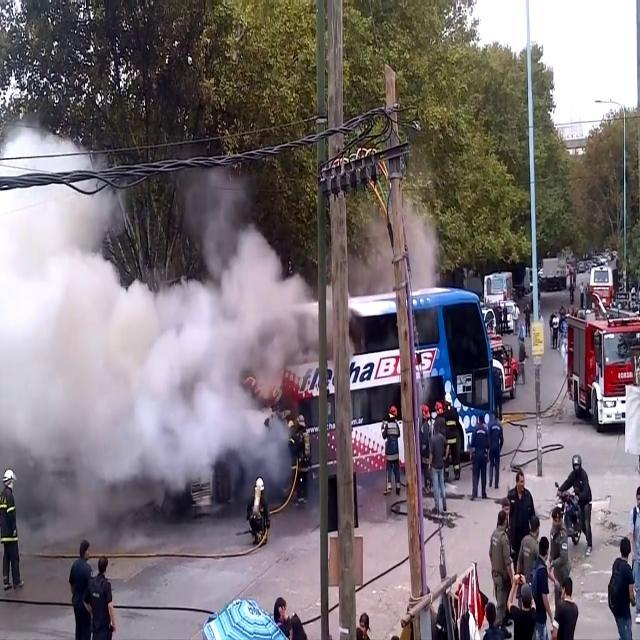Smoke: (0, 162, 312, 545)
